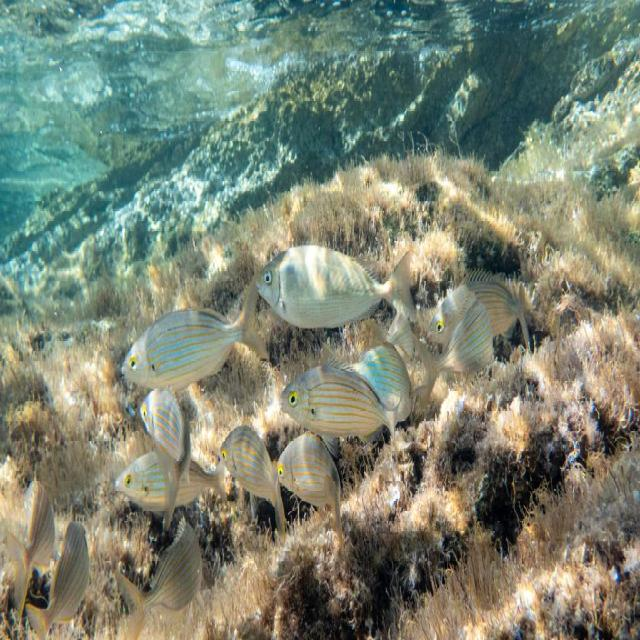Sokar Baligi: (250, 226, 430, 338), (274, 353, 414, 460)
